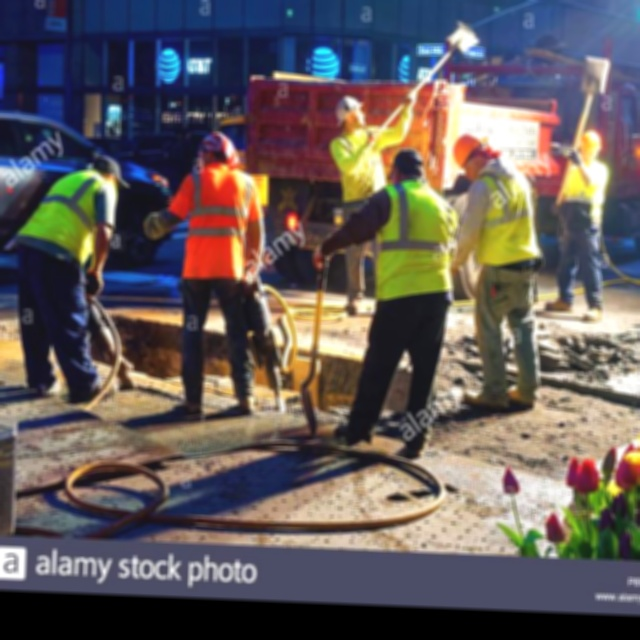Con_Casco: (454, 131, 490, 180), (336, 96, 365, 129), (578, 129, 602, 164)
Con_Chaleco: (376, 179, 456, 293), (178, 162, 253, 281), (28, 170, 114, 262), (474, 167, 538, 269)
Sin_Casco_Mascarrilla: (385, 149, 425, 182)
